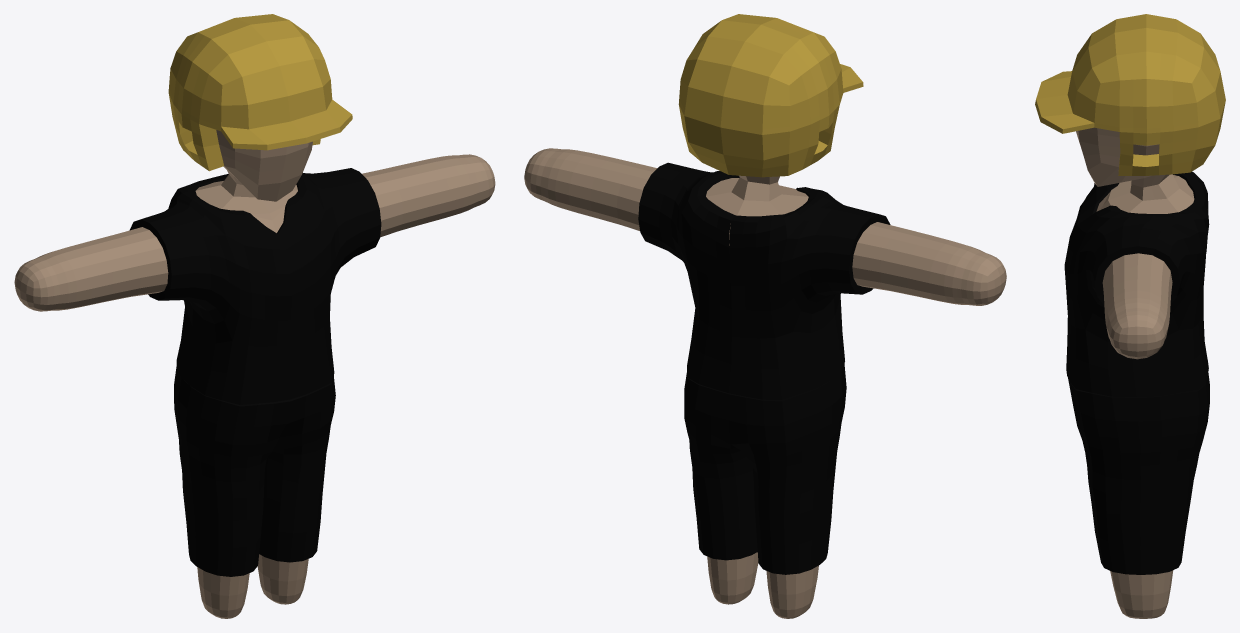
The model's file is Mod6.glb.
3 views of the same model, side by side, from view 1: azimuth 30°, elevation 25°; view 2: azimuth 150°, elevation 25°; view 3: azimuth 270°, elevation 25° (orthographic).
Parts seen in each view (by area): view 1: Modelo 4c; view 2: Modelo 4c; view 3: Modelo 4c.
Part boxes in pixels (bbox=[...]): Modelo 4c: bbox=[14, 14, 495, 618]; Modelo 4c: bbox=[524, 14, 1006, 618]; Modelo 4c: bbox=[1035, 14, 1225, 618].
Bounding box in the file's own units: 7.96 × 9.37 × 2.83.
